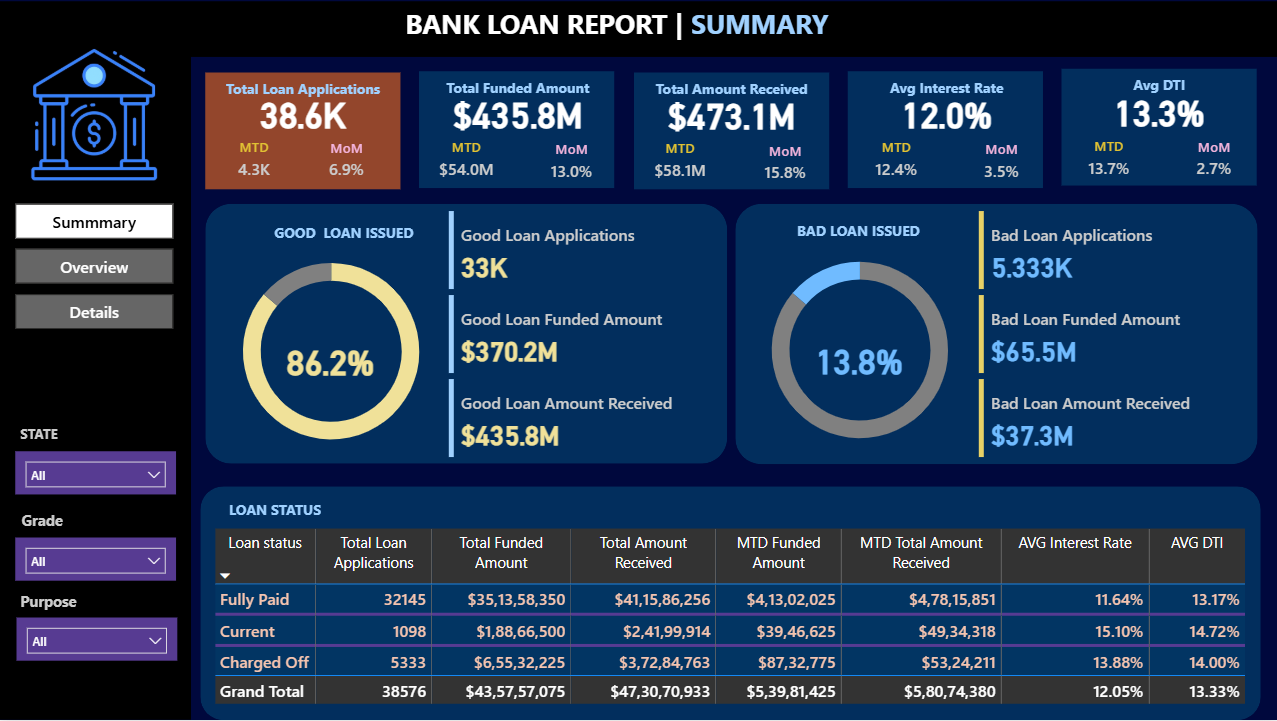

What the dashboard file says about the page in this screenshot:
{"tool":"powerbi","page":{"name":"Summmary","canvas":[1280,720],"ordinal":0},"visuals":[{"type":"shape","box":[0,55.5,192,664.7],"z":0},{"type":"shape","box":[0,1.1,1279.5,55.7],"z":1000},{"type":"textbox","box":[401.7,0,474.1,55.5],"z":2000},{"type":"shape","box":[206.3,72.4,195.4,117],"z":3000},{"type":"card","fields":{"Values":["bank_loan_data.Total Loan Applications"]},"box":[206.3,74.8,195.4,76],"z":4000},{"type":"textbox","box":[206.3,73.6,195.4,38.6],"z":5000},{"type":"card","title":"MTD","fields":{"Values":["bank_loan_data.MTD Loan Applications"]},"box":[224.4,137.5,60.3,49.5],"z":6000},{"type":"shape","box":[420.5,71.2,195.4,117],"z":7000},{"type":"card","title":"MoM","fields":{"Values":["bank_loan_data.MoM Loan Application"]},"box":[317.3,138.7,60.3,48.3],"z":8000},{"type":"card","fields":{"Values":["bank_loan_data.TOTAL FUNDED AMOUNT"]},"box":[421,74.8,195.4,76],"z":9000},{"type":"textbox","box":[421,72.4,195.4,38.6],"z":10000},{"type":"card","title":"MTD","fields":{"Values":["bank_loan_data.MTD Funded Amount"]},"box":[433.1,137.5,70,49.5],"z":11000},{"type":"card","title":"MoM","fields":{"Values":["bank_loan_data.MoM Total Funded Amount"]},"box":[542.9,139.9,60.3,48.3],"z":12000},{"type":"shape","box":[634.6,72.5,195.4,117],"z":13000},{"type":"card","fields":{"Values":["bank_loan_data.TOTAL AMOUNT RECEIVED"]},"box":[634.7,76.1,195.4,76],"z":14000},{"type":"textbox","box":[634.7,73.7,195.4,38.6],"z":15000},{"type":"card","title":"MTD","fields":{"Values":["bank_loan_data.MTD Total Amount Received"]},"box":[646.8,138.8,70,49.5],"z":16000},{"type":"card","title":"MoM","fields":{"Values":["bank_loan_data.MoM Total Amount Received"]},"box":[756.5,141.3,60.3,48.3],"z":17000},{"type":"shape","box":[848.8,70.9,195.4,117],"z":18000},{"type":"card","fields":{"Values":["bank_loan_data.AVG Interest Rate"]},"box":[850.3,74.5,195.4,76],"z":19000},{"type":"textbox","box":[850.3,72.1,195.4,38.6],"z":20000},{"type":"card","title":"MTD","fields":{"Values":["bank_loan_data.MTD Avg Int Rate"]},"box":[862.3,137.3,70,49.5],"z":21000},{"type":"card","title":"MoM","fields":{"Values":["bank_loan_data.MoM AVG Int Rate"]},"box":[972.1,139.7,60.3,48.3],"z":22000},{"type":"shape","box":[1063,69.3,195.4,117],"z":23000},{"type":"card","fields":{"Values":["bank_loan_data.AVG DTI"]},"box":[1063,72.9,195.4,76],"z":24000},{"type":"textbox","box":[1063,70.5,195.4,38.6],"z":25000},{"type":"card","title":"MTD","fields":{"Values":["bank_loan_data.MTD DTI"]},"box":[1075,135.7,70,49.5],"z":26000},{"type":"card","title":"MoM","fields":{"Values":["bank_loan_data.MoM AVG DTI"]},"box":[1184.8,138.1,60.3,48.3],"z":27000},{"type":"shape","box":[206.3,203.9,522,260],"z":28000},{"type":"shape","box":[735.9,203.9,522.4,260.6],"z":29000},{"type":"donutChart","fields":{"Category":["bank_loan_data.Good Vs  Bad Loan"],"Y":["bank_loan_data.Total Loan Applications"]},"box":[207.5,236.5,249.7,230.4],"z":30000},{"type":"card","fields":{"Values":["bank_loan_data.Good Loan %"]},"box":[278.7,322.1,105,76],"z":31000},{"type":"textbox","box":[259.4,217.2,173.7,33.8],"z":32000},{"type":"cardVisual","fields":{"Data":["bank_loan_data.Good Loan Applications","bank_loan_data.Good Loan Funded Amount","bank_loan_data.Good Loan Amount Received"]},"box":[445.2,206.3,283.5,258.2],"z":33000},{"type":"donutChart","fields":{"Category":["bank_loan_data.Good Vs  Bad Loan"],"Y":["bank_loan_data.Total Loan Applications"]},"box":[735.9,235.3,249.7,230.4],"z":34000},{"type":"cardVisual","fields":{"Data":["bank_loan_data.Bad Loan Applications","bank_loan_data.Bad Loan Funded Amount","bank_loan_data.Bad Loan Amount Received"]},"box":[974.8,206.3,283.5,258.2],"z":35000},{"type":"textbox","box":[756.4,216,206.3,35],"z":36000},{"type":"shape","box":[201.5,486.2,1060.5,234],"z":37000},{"type":"card","fields":{"Values":["bank_loan_data.Bad Loan %"]},"box":[807.1,320.9,105,76],"z":38000},{"type":"tableEx","fields":{"Values":["bank_loan_data.loan_status","bank_loan_data.Total Loan Applications","bank_loan_data.TOTAL FUNDED AMOUNT","bank_loan_data.TOTAL AMOUNT RECEIVED","bank_loan_data.MTD Funded Amount","bank_loan_data.MTD Total Amount Received","bank_loan_data.AVG Interest Rate","bank_loan_data.AVG DTI"]},"box":[209.9,523.6,1043.6,187],"z":39000},{"type":"textbox","box":[224.4,494.6,142.4,29],"z":40000},{"type":"slicer","fields":{"Values":["bank_loan_data.address_state"]},"box":[15.7,451.2,160.5,43.4],"z":41000},{"type":"textbox","box":[15.7,418.6,80.8,32.6],"z":42000},{"type":"slicer","fields":{"Values":["bank_loan_data.grade"]},"box":[15.7,538.1,160.5,43.4],"z":43000},{"type":"slicer","fields":{"Values":["bank_loan_data.purpose"]},"box":[16.9,617.7,160.5,43.4],"z":44000},{"type":"textbox","box":[16.9,505.5,80.8,32.6],"z":45000},{"type":"textbox","box":[15.7,586.3,80.8,32.6],"z":46000},{"type":"pageNavigator","box":[16.7,203.3,158.9,126.7],"z":46001},{"type":"image","box":[7.8,37.8,175.6,154.4],"z":46002}]}

Visuals, with their boxes in screenshot pixels (x1, y1, x2, y2), scaled from the page's 1280x720 canvas onto the 1277x721 screenshot:
shape: bbox(0, 56, 192, 720)
shape: bbox(0, 1, 1276, 57)
textbox: bbox(401, 0, 874, 56)
shape: bbox(206, 73, 401, 190)
card - bank_loan_data.Total Loan Applications: bbox(206, 75, 401, 151)
textbox: bbox(206, 74, 401, 112)
"MTD" card: bbox(224, 138, 284, 187)
shape: bbox(420, 71, 614, 188)
"MoM" card: bbox(317, 139, 377, 187)
card - bank_loan_data.TOTAL FUNDED AMOUNT: bbox(420, 75, 615, 151)
textbox: bbox(420, 73, 615, 111)
"MTD" card: bbox(432, 138, 502, 187)
"MoM" card: bbox(542, 140, 602, 188)
shape: bbox(633, 73, 828, 190)
card - bank_loan_data.TOTAL AMOUNT RECEIVED: bbox(633, 76, 828, 152)
textbox: bbox(633, 74, 828, 112)
"MTD" card: bbox(645, 139, 715, 189)
"MoM" card: bbox(755, 141, 815, 190)
shape: bbox(847, 71, 1042, 188)
card - bank_loan_data.AVG Interest Rate: bbox(848, 75, 1043, 151)
textbox: bbox(848, 72, 1043, 111)
"MTD" card: bbox(860, 137, 930, 187)
"MoM" card: bbox(970, 140, 1030, 188)
shape: bbox(1061, 69, 1255, 187)
card - bank_loan_data.AVG DTI: bbox(1061, 73, 1255, 149)
textbox: bbox(1061, 71, 1255, 109)
"MTD" card: bbox(1072, 136, 1142, 185)
"MoM" card: bbox(1182, 138, 1242, 187)
shape: bbox(206, 204, 727, 465)
shape: bbox(734, 204, 1255, 465)
donutChart - bank_loan_data.Good Vs  Bad Loan x bank_loan_data.Total Loan Applications: bbox(207, 237, 456, 468)
card - bank_loan_data.Good Loan %: bbox(278, 323, 383, 399)
textbox: bbox(259, 218, 432, 251)
cardVisual - bank_loan_data.Good Loan Applications x bank_loan_data.Good Loan Funded Amount: bbox(444, 207, 727, 465)
donutChart - bank_loan_data.Good Vs  Bad Loan x bank_loan_data.Total Loan Applications: bbox(734, 236, 983, 466)
cardVisual - bank_loan_data.Bad Loan Applications x bank_loan_data.Bad Loan Funded Amount: bbox(973, 207, 1255, 465)
textbox: bbox(755, 216, 960, 251)
shape: bbox(201, 487, 1259, 720)
card - bank_loan_data.Bad Loan %: bbox(805, 321, 910, 397)
tableEx - bank_loan_data.loan_status x bank_loan_data.Total Loan Applications: bbox(209, 524, 1251, 712)
textbox: bbox(224, 495, 366, 524)
slicer - bank_loan_data.address_state: bbox(16, 452, 176, 495)
textbox: bbox(16, 419, 96, 452)
slicer - bank_loan_data.grade: bbox(16, 539, 176, 582)
slicer - bank_loan_data.purpose: bbox(17, 619, 177, 662)
textbox: bbox(17, 506, 97, 539)
textbox: bbox(16, 587, 96, 620)
pageNavigator: bbox(17, 204, 175, 330)
image: bbox(8, 38, 183, 192)
